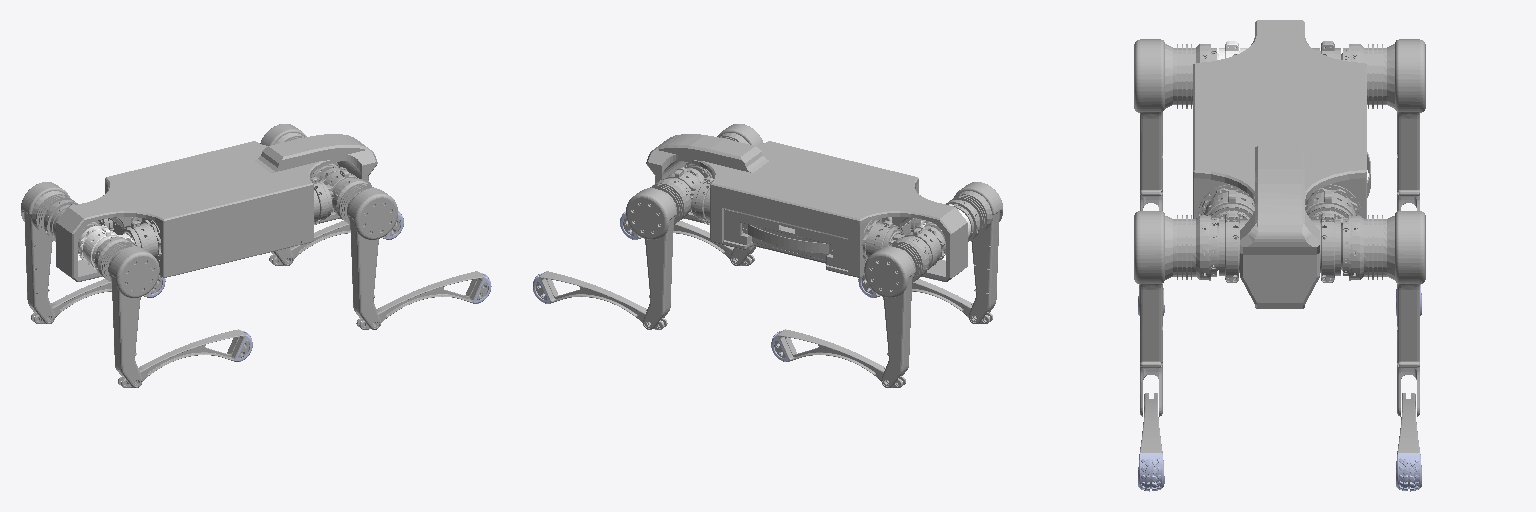
The robot description file, URDF, robot "panda3_2":
<?xml version="1.0" encoding="utf-8"?>
<!-- This URDF was automatically created by SolidWorks to URDF Exporter! Originally created by Stephen Brawner (brawner@gmail.com) 
     Commit Version: 1.6.0-4-g7f85cfe  Build Version: 1.6.7995.38578
     For more information, please see http://wiki.ros.org/sw_urdf_exporter -->
<robot
  name="panda3_2">
  <link
    name="base_link">
    <inertial>
      <origin
        xyz="0.0097705 -0.0002316 -0.0017244"
        rpy="0 0 0" />
      <mass
        value="21.0994282" />
      <inertia
        ixx="0.1139705"
        ixy="0.0000566"
        ixz="-0.0128284"
        iyy="0.5087214"
        iyz="0.0002866"
        izz="0.5559912" />
    </inertial>
    <visual>
      <origin
        xyz="0 0 0"
        rpy="0 0 0" />
      <geometry>
        <mesh
          filename="../meshes/base_link.STL" />
      </geometry>
      <material
        name="">
        <color
          rgba="0.752941176470588 0.752941176470588 0.752941176470588 1" />
      </material>
    </visual>
    <collision>
      <origin rpy="0 0 0" xyz="0 0 -0.00"/>
      <geometry>
        <box size="0.38 0.26 0.15"/>
      </geometry>
    </collision>
    <!-- <collision>
        <origin xyz="0 -0.082 -0.011" rpy="0 1.57079632 0"/>
        <geometry>
            <cylinder length="0.32" radius="0.08"/>
        </geometry>
    </collision>
    <collision>
        <origin xyz="0 0.082 -0.011" rpy="0 1.57079632 0"/>
        <geometry>
            <cylinder length="0.32" radius="0.08"/>
        </geometry>
    </collision> -->
  </link>
  <link
    name="FL_hip_Link">
    <inertial>
      <origin
        xyz="-0.0063170 -0.0104337 0.0000336"
        rpy="0 0 0" />
      <mass
        value="1.2062863" />
      <inertia
        ixx="0.0011067"
        ixy="0.0000977"
        ixz="0.0000029"
        iyy="0.0015109"
        iyz="0.0000018"
        izz="0.0014173" />
    </inertial>
    <visual>
      <origin
        xyz="0 0 0"
        rpy="0 0 0" />
      <geometry>
        <mesh
          filename="../meshes/FL_hip_Link.STL" />
      </geometry>
      <material
        name="">
        <color
          rgba="0.752941176470588 0.752941176470588 0.752941176470588 1" />
      </material>
    </visual>
    <!-- <collision>
      <origin rpy="1.57 0 0" xyz="0 -0.043 0"/>
      <geometry>
        <cylinder radius="0.05" length="0.12"/>
      </geometry>
    </collision>
    <collision>
      <origin rpy="0 0 0" xyz="-0.021 0 -0.135"/>
      <geometry>
        <box size="0.044 0.03 0.16"/>
      </geometry>
    </collision> -->
  </link>
  <joint
    name="FL_hip_joint"
    type="revolute">
    <origin
      xyz="0.30112 0.071 0"
      rpy="0 0 0" />
    <parent
      link="base_link" />
    <child
      link="FL_hip_Link" />
    <axis
      xyz="1 0 0" />
    <limit
      lower="-1.0472"
      upper="1.0472"
      effort="60"
      velocity="18.0" />
  </joint>
  <link
    name="FL_thigh_Link">
    <inertial>
      <origin
        xyz="-0.0025333 -0.0351757 -0.0240039"
        rpy="0 0 0" />
      <mass
        value="2.1119373" />
      <inertia
        ixx="0.0119340"
        ixy="0.0002462"
        ixz="-0.0007594"
        iyy="0.0110032"
        iyz="0.0018112"
        izz="0.0035481" />
    </inertial>
    <visual>
      <origin
        xyz="0 0 0"
        rpy="0 0 0" />
      <geometry>
        <mesh
          filename="../meshes/FL_thigh_Link.STL" />
      </geometry>
      <material
        name="">
        <color
          rgba="0.75294 0.75294 0.75294 1" />
      </material>
    </visual>
    <collision>
      <origin rpy="1.57 0 0" xyz="0 -0.056 0"/>
      <geometry>
        <cylinder radius="0.055" length="0.16"/>
      </geometry>
    </collision>
    <collision>
      <origin rpy="0 0 0" xyz="-0.019 0 -0.165"/>
      <geometry>
        <box size="0.060 0.040 0.220"/>
      </geometry>
    </collision>
  </link>
  <joint
    name="FL_thigh_joint"
    type="revolute">
    <origin
      xyz="0 0.12 0"
      rpy="0 0 0" />
    <parent
      link="FL_hip_Link" />
    <child
      link="FL_thigh_Link" />
    <axis
      xyz="0 1 0" />
    <limit
      lower="-1.6755"
      upper="3.2463"
      effort="60"
      velocity="18.0" />
  </joint>
  <link
    name="FL_calf_Link">
    <inertial>
      <origin
        xyz="0.0086224 -0.0000233 -0.1393878"
        rpy="0 0 0" />
      <mass
        value="0.2522825" />
      <inertia
        ixx="0.0030350"
        ixy="-0.0000001"
        ixz="-0.0000483"
        iyy="0.0030849"
        iyz="-0.0000018"
        izz="0.0000771" />
    </inertial>
    <visual>
      <origin
        xyz="0 0 0"
        rpy="0 0 0" />
      <geometry>
        <mesh
          filename="../meshes/FL_calf_Link.STL" />
      </geometry>
      <material
        name="">
        <color
          rgba="0.752941176470588 0.752941176470588 0.752941176470588 1" />
      </material>
    </visual>
    <collision>
      <origin rpy="0 1.65 0" xyz="0.004 0 -0.125"/>
      <geometry>
        <box size="0.310 0.040 0.060"/>
      </geometry>
    </collision>
  </link>
  <joint
    name="FL_calf_joint"
    type="revolute">
    <origin
      xyz="0 0 -0.26"
      rpy="0 0 0" />
    <parent
      link="FL_thigh_Link" />
    <child
      link="FL_calf_Link" />
    <axis
      xyz="0 1 0" />
    <limit
      lower="-2.6180"
      upper="-0.6981"
      effort="140"
      velocity="14" />
  </joint>
  <link
    name="FL_foot_Link">
    <inertial>
      <origin
        xyz="-0.00856838166588392 0.0000000 -0.0136195483876302"
        rpy="0 0 0" />
      <mass
        value="0.0432172775947601" />
      <inertia
        ixx=" 0.0000116"
        ixy="0.0"
        ixz="0.0000047"
        iyy=" 0.0000186"
        iyz="0.0"
        izz=" 0.0000161" />
    </inertial>
    <visual>
      <origin
        xyz="0 0 0"
        rpy="0 0 0" />
      <geometry>
        <mesh
          filename="../meshes/FL_foot_Link.STL" />
      </geometry>
      <material
        name="">
        <color
          rgba="0.792156862745098 0.819607843137255 0.933333333333333 1" />
      </material>
    </visual>
    <collision>
      <origin rpy="0 0 0" xyz="-0.003 0 -0.005"/>
      <geometry>
        <sphere radius="0.033"/>
      </geometry>
    </collision>
  </link>
  <joint
    name="FL_foot_joint"
    type="fixed"  dont_collapse="true">
    <origin
      xyz="0 0 -0.26"
      rpy="0 0 0" />
    <parent
      link="FL_calf_Link" />
    <child
      link="FL_foot_Link" />
    <axis
      xyz="0 0 0" />
  </joint>
  <link
    name="FR_hip_Link">
    <inertial>
      <origin
        xyz="-0.0063193 0.0112453 0.0000215"
        rpy="0 0 0" />
      <mass
        value="1.2062863" />
      <inertia
        ixx="0.0011110"
        ixy="-0.0001035"
        ixz="-0.0000009"
        iyy="0.0015108"
        iyz="-0.0000008"
        izz="0.0014247" />
    </inertial>
    <visual>
      <origin
        xyz="0 0 0"
        rpy="0 0 0" />
      <geometry>
        <mesh
          filename="../meshes/FR_hip_Link.STL" />
      </geometry>
      <material
        name="">
        <color
          rgba="0.752941176470588 0.752941176470588 0.752941176470588 1" />
      </material>
    </visual>
    <!-- <collision>
      <origin
        xyz="0 0 0"
        rpy="0 0 0" />
      <geometry>
        <mesh
          filename="../meshes/FR_hip_Link.STL" />
      </geometry>
    </collision> -->
  </link>
  <joint
    name="FR_hip_joint"
    type="revolute">
    <origin
      xyz="0.30112 -0.071 0"
      rpy="0 0 0" />
    <parent
      link="base_link" />
    <child
      link="FR_hip_Link" />
    <axis
      xyz="1 0 0" />
    <limit
      lower="-1.0472"
      upper="1.0472"
      effort="60"
      velocity="18.0" />
  </joint>
  <link
    name="FR_thigh_Link">
    <inertial>
      <origin
        xyz="-0.0025911 0.0351590 -0.0233429"
        rpy="0 0 0" />
      <mass
        value="2.1112879" />
      <inertia
        ixx="0.0116509"
        ixy="-0.0002411"
        ixz="-0.0007439"
        iyy="0.0107174"
        iyz="-0.0017707"
        izz="0.0035417" />
    </inertial>
    <visual>
      <origin
        xyz="0 0 0"
        rpy="0 0 0" />
      <geometry>
        <mesh
          filename="../meshes/FR_thigh_Link.STL" />
      </geometry>
      <material
        name="">
        <color
          rgba="0.752941176470588 0.752941176470588 0.752941176470588 1" />
      </material>
    </visual>
    <collision>
      <origin rpy="1.57 0 0" xyz="0 0.056 0"/>
      <geometry>
        <cylinder radius="0.055" length="0.16"/>
      </geometry>
    </collision>
    <collision>
      <origin rpy="0 0 0" xyz="-0.019 0 -0.165"/>
      <geometry>
        <box size="0.060 0.040 0.220"/>
      </geometry>
    </collision>
  </link>
  <joint
    name="FR_thigh_joint"
    type="revolute">
    <origin
      xyz="0 -0.12 0"
      rpy="0 0 0" />
    <parent
      link="FR_hip_Link" />
    <child
      link="FR_thigh_Link" />
    <axis
      xyz="0 1 0" />
    <limit
      lower="-1.6755"
      upper="3.2463"
      effort="60"
      velocity="18.0" />
  </joint>
  <link
    name="FR_calf_Link">
    <inertial>
      <origin
        xyz="0.0086224 0.0000168 -0.1393878"
        rpy="0 0 0" />
      <mass
        value="0.2522825" />
      <inertia
        ixx="0.0030350"
        ixy="0.0000001"
        ixz="-0.0000483"
        iyy="0.0030849"
        iyz="-0.0000008"
        izz="0.0000771" />
    </inertial>
    <visual>
      <origin
        xyz="0 0 0"
        rpy="0 0 0" />
      <geometry>
        <mesh
          filename="../meshes/FR_calf_Link.STL" />
      </geometry>
      <material
        name="">
        <color
          rgba="0.752941176470588 0.752941176470588 0.752941176470588 1" />
      </material>
    </visual>
    <collision>
      <origin rpy="0 1.65 0" xyz="0.004 0 -0.125"/>
      <geometry>
        <box size="0.310 0.040 0.060"/>
      </geometry>
    </collision>
  </link>
  <joint
    name="FR_calf_joint"
    type="revolute">
    <origin
      xyz="0 0 -0.26"
      rpy="0 0 0" />
    <parent
      link="FR_thigh_Link" />
    <child
      link="FR_calf_Link" />
    <axis
      xyz="0 1 0" />
    <limit
      lower="-2.6180"
      upper="-0.6981"
      effort="140"
      velocity="14" />
  </joint>
  <link
    name="FR_foot_Link">
    <inertial>
      <origin
        xyz="-0.00856839389569219 4.29458727269072E-05 -0.0136195555784336"
        rpy="0 0 0" />
      <mass
        value="0.0432172596833728" />
      <inertia
        ixx=" 0.0000116"
        ixy="0.0"
        ixz="0.0000047"
        iyy=" 0.0000186"
        iyz="0.0"
        izz=" 0.0000161" />
    </inertial>
    <visual>
      <origin
        xyz="0 0 0"
        rpy="0 0 0" />
      <geometry>
        <mesh
          filename="../meshes/FR_foot_Link.STL" />
      </geometry>
      <material
        name="">
        <color
          rgba="0.792156862745098 0.819607843137255 0.933333333333333 1" />
      </material>
    </visual>
    <collision>
      <origin rpy="0 0 0" xyz="-0.003 0 -0.005"/>
      <geometry>
        <sphere radius="0.033"/>
      </geometry>
    </collision>
  </link>
  <joint
    name="FR_foot_joint"
    type="fixed"  dont_collapse="true">
    <origin
      xyz="0 0 -0.26"
      rpy="0 0 0" />
    <parent
      link="FR_calf_Link" />
    <child
      link="FR_foot_Link" />
    <axis
      xyz="0 0 0" />
  </joint>
  <link
    name="RL_hip_Link">
    <inertial>
      <origin
        xyz="0.0063193 -0.0112382 0.0000215"
        rpy="0 0 0" />
      <mass
        value="1.2062863" />
      <inertia
        ixx="0.0011117"
        ixy="-0.0001039"
        ixz="0.0000009"
        iyy="0.0015108"
        iyz="0.0000008"
        izz="0.0014254" />
    </inertial>
    <visual>
      <origin
        xyz="0 0 0"
        rpy="0 0 0" />
      <geometry>
        <mesh
          filename="../meshes/RL_hip_Link.STL" />
      </geometry>
      <material
        name="">
        <color
          rgba="0.752941176470588 0.752941176470588 0.752941176470588 1" />
      </material>
    </visual>
    <!-- <collision>
      <origin
        xyz="0 0 0"
        rpy="0 0 0" />
      <geometry>
        <mesh
          filename="../meshes/RL_hip_Link.STL" />
      </geometry>
    </collision> -->
  </link>
  <joint
    name="RL_hip_joint"
    type="revolute">
    <origin
      xyz="-0.30112 0.071 0"
      rpy="0 0 0" />
    <parent
      link="base_link" />
    <child
      link="RL_hip_Link" />
    <axis
      xyz="1 0 0" />
    <limit
      lower="-1.0472"
      upper="1.0472"
      effort="60"
      velocity="18.0" />
  </joint>
  <link
    name="RL_thigh_Link">
    <inertial>
      <origin
        xyz="-0.0025928 -0.0351757 -0.0235082"
        rpy="0 0 0" />
      <mass
        value="2.1119373" />
      <inertia
        ixx="0.0116952"
        ixy="0.0002507"
        ixz="-0.0007572"
        iyy="0.0107683"
        iyz="0.0017733"
        izz="0.0035521" />
    </inertial>
    <visual>
      <origin
        xyz="0 0 0"
        rpy="0 0 0" />
      <geometry>
        <mesh
          filename="../meshes/RL_thigh_Link.STL" />
      </geometry>
      <material
        name="">
        <color
          rgba="0.752941176470588 0.752941176470588 0.752941176470588 1" />
      </material>
    </visual>
    <collision>
      <origin rpy="1.57 0 0" xyz="0 -0.056 0"/>
      <geometry>
        <cylinder radius="0.055" length="0.16"/>
      </geometry>
    </collision>
    <collision>
      <origin rpy="0 0 0" xyz="-0.019 0 -0.165"/>
      <geometry>
        <box size="0.060 0.040 0.220"/>
      </geometry>
    </collision>
  </link>
  <joint
    name="RL_thigh_joint"
    type="revolute">
    <origin
      xyz="0 0.12 0"
      rpy="0 0 0" />
    <parent
      link="RL_hip_Link" />
    <child
      link="RL_thigh_Link" />
    <axis
      xyz="0 1 0" />
    <limit
      lower="-1.6755"
      upper="3.2463"
      effort="60"
      velocity="18.0" />
  </joint>
  <link
    name="RL_calf_Link">
    <inertial>
      <origin
        xyz="0.0086224 0.0000500 -0.1393878"
        rpy="0 0 0" />
      <mass
        value="0.2522825" />
      <inertia
        ixx="0.0030350"
        ixy="0.0000002"
        ixz="-0.0000483"
        iyy="0.0030849"
        iyz="0.0000007"
        izz="0.0000771" />
    </inertial>
    <visual>
      <origin
        xyz="0 0 0"
        rpy="0 0 0" />
      <geometry>
        <mesh
          filename="../meshes/RL_calf_Link.STL" />
      </geometry>
      <material
        name="">
        <color
          rgba="0.752941176470588 0.752941176470588 0.752941176470588 1" />
      </material>
    </visual>
    <collision>
      <origin rpy="0 1.65 0" xyz="0.004 0 -0.125"/>
      <geometry>
        <box size="0.310 0.040 0.060"/>
      </geometry>
    </collision>
  </link>
  <joint
    name="RL_calf_joint"
    type="revolute">
    <origin
      xyz="0 0 -0.26"
      rpy="0 0 0" />
    <parent
      link="RL_thigh_Link" />
    <child
      link="RL_calf_Link" />
    <axis
      xyz="0 1 0" />
    <limit
      lower="-2.6180"
      upper="-0.6981"
      effort="140"
      velocity="14" />
  </joint>
  <link
    name="RL_foot_Link">
    <inertial>
      <origin
        xyz="-0.00856837350876061 4.29345320518415E-05 -0.0136195228137627"
        rpy="0 0 0" />
      <mass
        value="0.0432172612927212" />
      <inertia
        ixx=" 0.0000116"
        ixy="0.0"
        ixz="0.0000047"
        iyy=" 0.0000186"
        iyz="0.0"
        izz=" 0.0000161" />
    </inertial>
    <visual>
      <origin
        xyz="0 0 0"
        rpy="0 0 0" />
      <geometry>
        <mesh
          filename="../meshes/RL_foot_Link.STL" />
      </geometry>
      <material
        name="">
        <color
          rgba="0.792156862745098 0.819607843137255 0.933333333333333 1" />
      </material>
    </visual>
    <collision>
      <origin rpy="0 0 0" xyz="-0.003 0 -0.005"/>
      <geometry>
        <sphere radius="0.033"/>
      </geometry>
    </collision>
  </link>
  <joint
    name="RL_foot_joint"
    type="fixed"  dont_collapse="true">
    <origin
      xyz="0 0 -0.26"
      rpy="0 0 0" />
    <parent
      link="RL_calf_Link" />
    <child
      link="RL_foot_Link" />
    <axis
      xyz="0 0 0" />
  </joint>
  <link
    name="RR_hip_Link">
    <inertial>
      <origin
        xyz="0.0060691 0.0112453 0.0001065"
        rpy="0 0 0" />
      <mass
        value="1.2062863" />
      <inertia
        ixx="0.0011131"
        ixy="0.0001156"
        ixz="0.0000043"
        iyy="0.0015145"
        iyz="-0.0000049"
        izz="0.0014264" />
    </inertial>
    <visual>
      <origin
        xyz="0 0 0"
        rpy="0 0 0" />
      <geometry>
        <mesh
          filename="../meshes/RR_hip_Link.STL" />
      </geometry>
      <material
        name="">
        <color
          rgba="1 1 1 1" />
      </material>
    </visual>
    <!-- <collision>
      <origin
        xyz="0 0 0"
        rpy="0 0 0" />
      <geometry>
        <mesh
          filename="../meshes/RR_hip_Link.STL" />
      </geometry>
    </collision> -->
  </link>
  <joint
    name="RR_hip_joint"
    type="revolute">
    <origin
      xyz="-0.30112 -0.071 0"
      rpy="0 0 0" />
    <parent
      link="base_link" />
    <child
      link="RR_hip_Link" />
    <axis
      xyz="1 0 0" />
    <limit
      lower="-1.0472"
      upper="1.0472"
      effort="60"
      velocity="18.0" />
  </joint>
  <link
    name="RR_thigh_Link">
    <inertial>
      <origin
        xyz="-0.0020895 0.0351533 -0.0236942"
        rpy="0 0 0" />
      <mass
        value="2.1112879" />
      <inertia
        ixx="0.0117955"
        ixy="-0.0002013"
        ixz="-0.0007182"
        iyy="0.0108567"
        iyz="-0.0018005"
        izz="0.0035375" />
    </inertial>
    <visual>
      <origin
        xyz="0 0 0"
        rpy="0 0 0" />
      <geometry>
        <mesh
          filename="../meshes/RR_thigh_Link.STL" />
      </geometry>
      <material
        name="">
        <color
          rgba="0.752941176470588 0.752941176470588 0.752941176470588 1" />
      </material>
    </visual>
    <collision>
      <origin rpy="1.57 0 0" xyz="0 0.056 0"/>
      <geometry>
        <cylinder radius="0.055" length="0.16"/>
      </geometry>
    </collision>
    <collision>
      <origin rpy="0 0 0" xyz="-0.019 0 -0.165"/>
      <geometry>
        <box size="0.060 0.040 0.220"/>
      </geometry>
    </collision>
  </link>
  <joint
    name="RR_thigh_joint"
    type="revolute">
    <origin
      xyz="0 -0.12 0"
      rpy="0 0 0" />
    <parent
      link="RR_hip_Link" />
    <child
      link="RR_thigh_Link" />
    <axis
      xyz="0 1 0" />
    <limit
      lower="-1.6755"
      upper="3.2463"
      effort="60"
      velocity="18.0" />
  </joint>
  <link
    name="RR_calf_Link">
    <inertial>
      <origin
        xyz="0.0086224 0.0000134 -0.1393878"
        rpy="0 0 0" />
      <mass
        value="0.2522825" />
      <inertia
        ixx="0.0030350"
        ixy="-0.0000001"
        ixz="-0.0000483"
        iyy="0.0030849"
        iyz="-0.0000005"
        izz="0.0000771" />
    </inertial>
    <visual>
      <origin
        xyz="0 0 0"
        rpy="0 0 0" />
      <geometry>
        <mesh
          filename="../meshes/RR_calf_Link.STL" />
      </geometry>
      <material
        name="">
        <color
          rgba="0.752941176470588 0.752941176470588 0.752941176470588 1" />
      </material>
    </visual>
    <collision>
      <origin rpy="0 1.65 0" xyz="0.004 0 -0.125"/>
      <geometry>
        <box size="0.310 0.040 0.060"/>
      </geometry>
    </collision>
  </link>
  <joint
    name="RR_calf_joint"
    type="revolute">
    <origin
      xyz="0 0 -0.26"
      rpy="0 0 0" />
    <parent
      link="RR_thigh_Link" />
    <child
      link="RR_calf_Link" />
    <axis
      xyz="0 1 0" />
    <limit
      lower="-2.6180"
      upper="-0.6981"
      effort="140"
      velocity="14" />
  </joint>
  <link
    name="RR_foot_Link">
    <inertial>
      <origin
        xyz="-0.00856837316558678 4.29343732643028E-05 -0.0136195231552007"
        rpy="0 0 0" />
      <mass
        value="0.0432172623070608" />
      <inertia
        ixx=" 0.0000116"
        ixy="0.0"
        ixz="0.0000047"
        iyy=" 0.0000186"
        iyz="0.0"
        izz=" 0.0000161" />
    </inertial>
    <visual>
      <origin
        xyz="0 0 0"
        rpy="0 0 0" />
      <geometry>
        <mesh
          filename="../meshes/RR_foot_Link.STL" />
      </geometry>
      <material
        name="">
        <color
          rgba="0.792156862745098 0.819607843137255 0.933333333333333 1" />
      </material>
    </visual>
    <collision>
      <origin rpy="0 0 0" xyz="-0.003 0 -0.005"/>
      <geometry>
        <sphere radius="0.033"/>
      </geometry>
    </collision>
  </link>
  <joint
    name="RR_foot_joint"
    type="fixed"  dont_collapse="true">
    <origin
      xyz="0 0 -0.260000000000001"
      rpy="0 0 0" />
    <parent
      link="RR_calf_Link" />
    <child
      link="RR_foot_Link" />
    <axis
      xyz="0 0 0" />
  </joint>
</robot>

--- Render facts (derived) ---
Views: 3 orthographic renders of the robot side by side, from view 1: azimuth 30°, elevation 25°; view 2: azimuth 150°, elevation 25°; view 3: azimuth 270°, elevation 25°.
Robot: panda3_2 — 17 links, 16 joints (12 revolute, 4 fixed); root link base_link; default pose: joints at zero except 4 at the middle of their limits (FL_calf_joint = -1.66, FR_calf_joint = -1.66, RL_calf_joint = -1.66, RR_calf_joint = -1.66).
Links seen in each view (by area): view 1: base_link, FR_thigh_Link, RR_thigh_Link, RL_thigh_Link, FR_calf_Link, RR_calf_Link, RL_calf_Link, RR_hip_Link, FL_thigh_Link, FL_calf_Link, FR_hip_Link; view 2: base_link, FL_thigh_Link, RL_thigh_Link, RR_thigh_Link, FL_calf_Link, RL_calf_Link, RR_calf_Link, RL_hip_Link, FR_thigh_Link, FR_calf_Link, FL_hip_Link; view 3: base_link, FR_thigh_Link, FL_thigh_Link, RL_thigh_Link, RR_thigh_Link, FR_hip_Link, FL_hip_Link, FL_calf_Link, FR_calf_Link, FR_foot_Link, FL_foot_Link.
Link boxes in pixels (x1,y1,x2,y2): base_link: (56,134,377,281); FR_thigh_Link: (333,178,397,329); RR_thigh_Link: (94,237,159,387); RL_thigh_Link: (21,182,77,323); FR_calf_Link: (356,271,487,329); RR_calf_Link: (118,329,249,387); RL_calf_Link: (31,276,161,323); RR_hip_Link: (78,225,134,269); FL_thigh_Link: (260,124,306,265); FL_calf_Link: (269,218,400,265); FR_hip_Link: (319,167,358,212); base_link: (646,134,967,281); FL_thigh_Link: (626,178,690,329); RL_thigh_Link: (864,237,928,387); RR_thigh_Link: (946,182,1002,323); FL_calf_Link: (536,271,667,329); RL_calf_Link: (774,329,905,387); RR_calf_Link: (862,276,992,323); RL_hip_Link: (889,225,945,269); FR_thigh_Link: (717,124,763,265); FR_calf_Link: (623,218,754,265); FL_hip_Link: (665,167,704,212); base_link: (1193,20,1370,308); FR_thigh_Link: (1134,211,1216,416); FL_thigh_Link: (1343,211,1425,416); RL_thigh_Link: (1343,39,1425,210); RR_thigh_Link: (1134,39,1216,210); FR_hip_Link: (1212,212,1248,282); FL_hip_Link: (1311,212,1347,282); FL_calf_Link: (1397,393,1419,453); FR_calf_Link: (1140,393,1162,453); FR_foot_Link: (1138,453,1164,491); FL_foot_Link: (1396,453,1421,491).
Bounding box of the posed robot: 0.9639 × 0.432 × 0.3795 m (x, y, z).
Meshes: 17 distinct files referenced, 17 mesh visuals loaded (17 binary STL).
